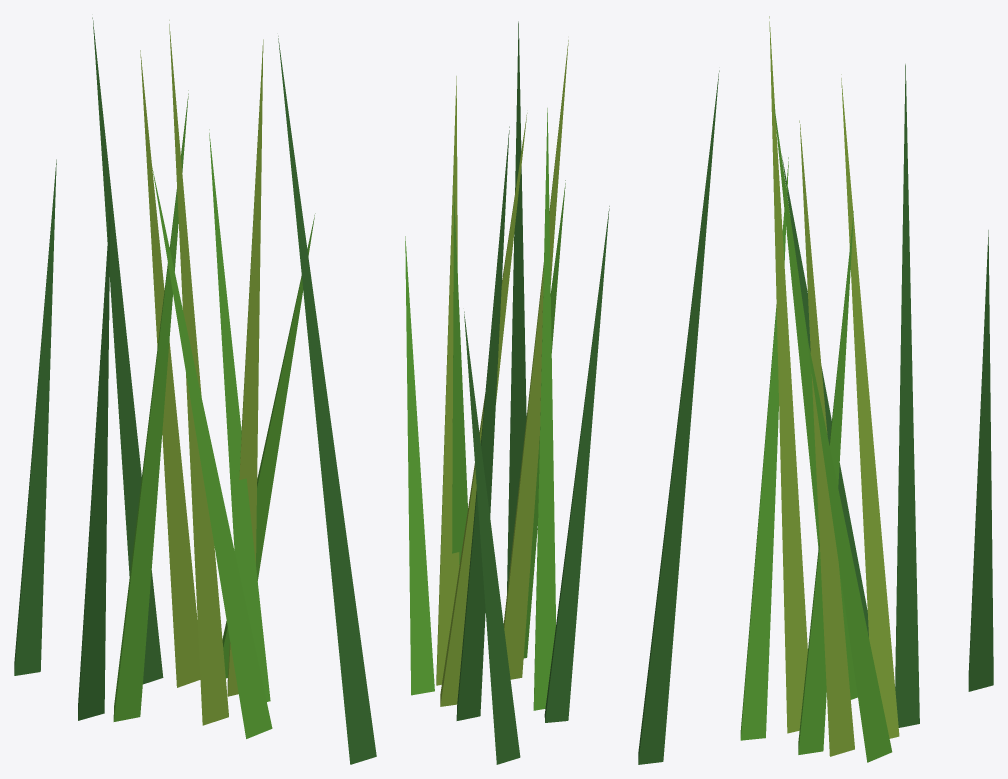
The model's file is reeds_1.glb.
3 renders of one model, left to right at view 1: azimuth 30°, elevation 25°; view 2: azimuth 150°, elevation 25°; view 3: azimuth 270°, elevation 25°, orthographic. The views are drawn at different scales.
Parts seen in each view (by area): view 1: reeds_1; view 2: reeds_1; view 3: reeds_1.
Boxes of the visible parts, x1,y1,x2,y2 form: reeds_1: (14,17,376,764); reeds_1: (405,21,609,764); reeds_1: (638,16,993,764).
Bounding box in the file's own units: 0.566 × 1.81 × 0.8429.
